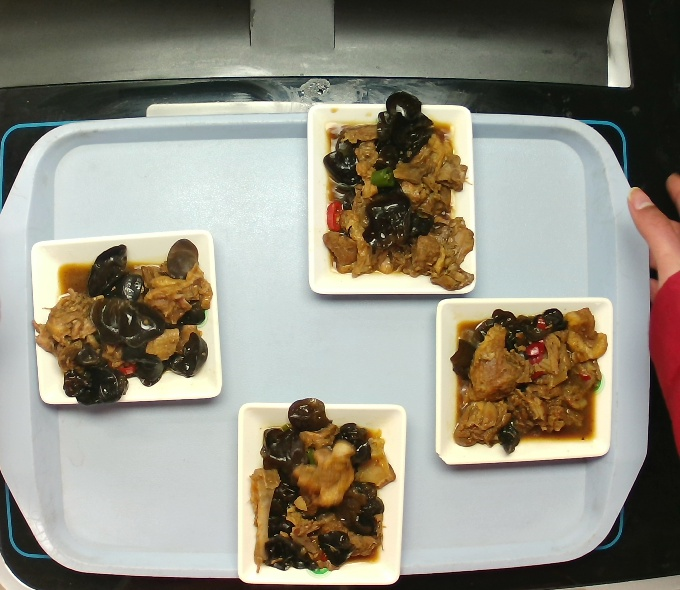wcq-MuErYaRou: (317, 92, 480, 297), (35, 241, 216, 406), (252, 405, 397, 569), (453, 298, 596, 463)
